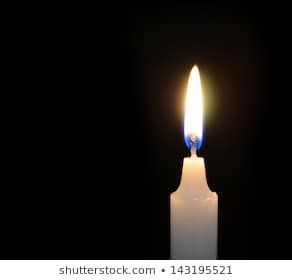Fire: (182, 54, 209, 148)
